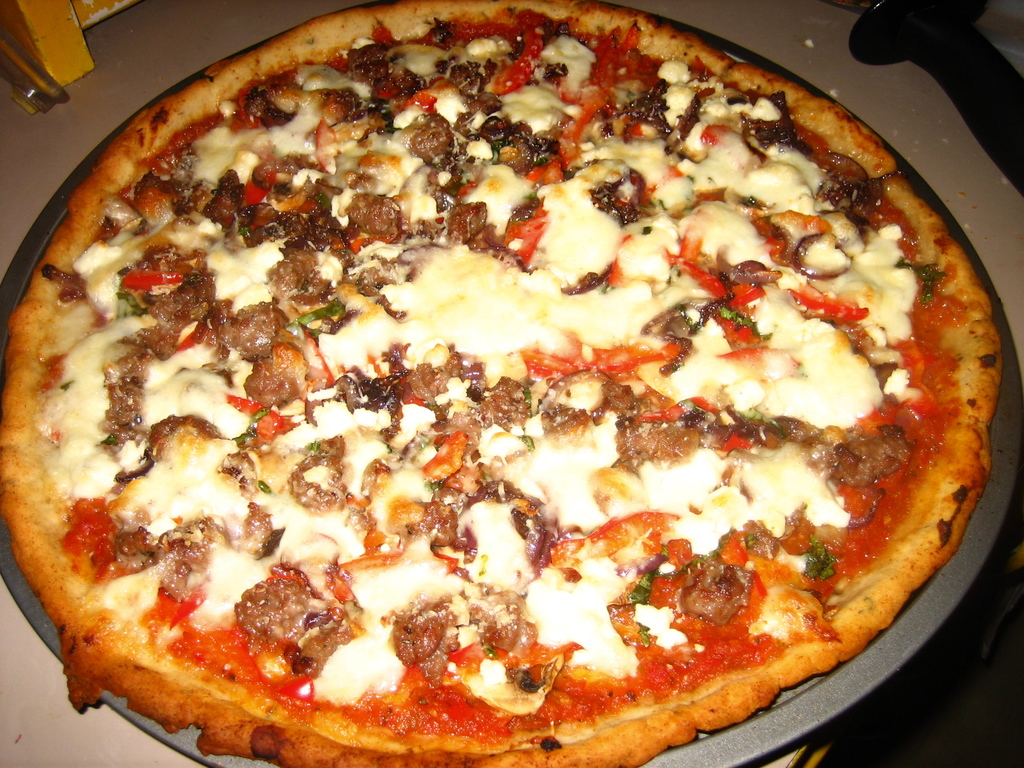Pizza: (0, 0, 997, 767)
